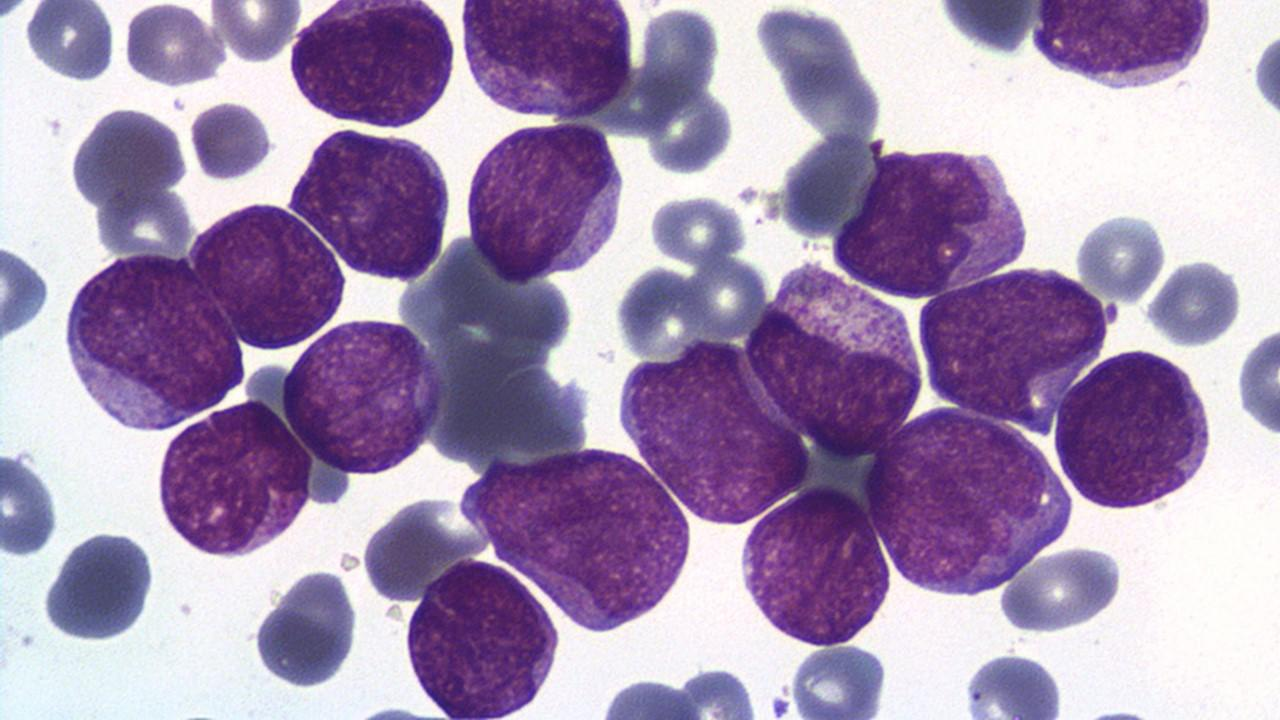RBC: (249, 563, 363, 692), (39, 526, 159, 648), (67, 101, 191, 210), (996, 543, 1126, 635), (1139, 256, 1245, 348), (1072, 208, 1170, 302), (118, 3, 222, 89), (785, 641, 894, 717), (956, 650, 1073, 718), (21, 2, 117, 84), (186, 98, 275, 181), (0, 443, 63, 558), (930, 0, 1047, 59), (208, 1, 304, 63), (1, 234, 51, 353), (1236, 316, 1280, 444), (1251, 28, 1280, 123), (1077, 706, 1153, 720)
WBC: (470, 439, 695, 636), (858, 402, 1074, 602), (810, 130, 1036, 303), (744, 256, 926, 461), (56, 247, 245, 436), (151, 388, 320, 566), (458, 116, 631, 284), (1049, 344, 1217, 514), (922, 263, 1105, 418), (278, 313, 447, 479), (282, 123, 458, 282), (738, 481, 896, 655), (940, 0, 1216, 99), (397, 554, 564, 716), (184, 196, 348, 352), (282, 0, 458, 131), (455, 1, 635, 124)
